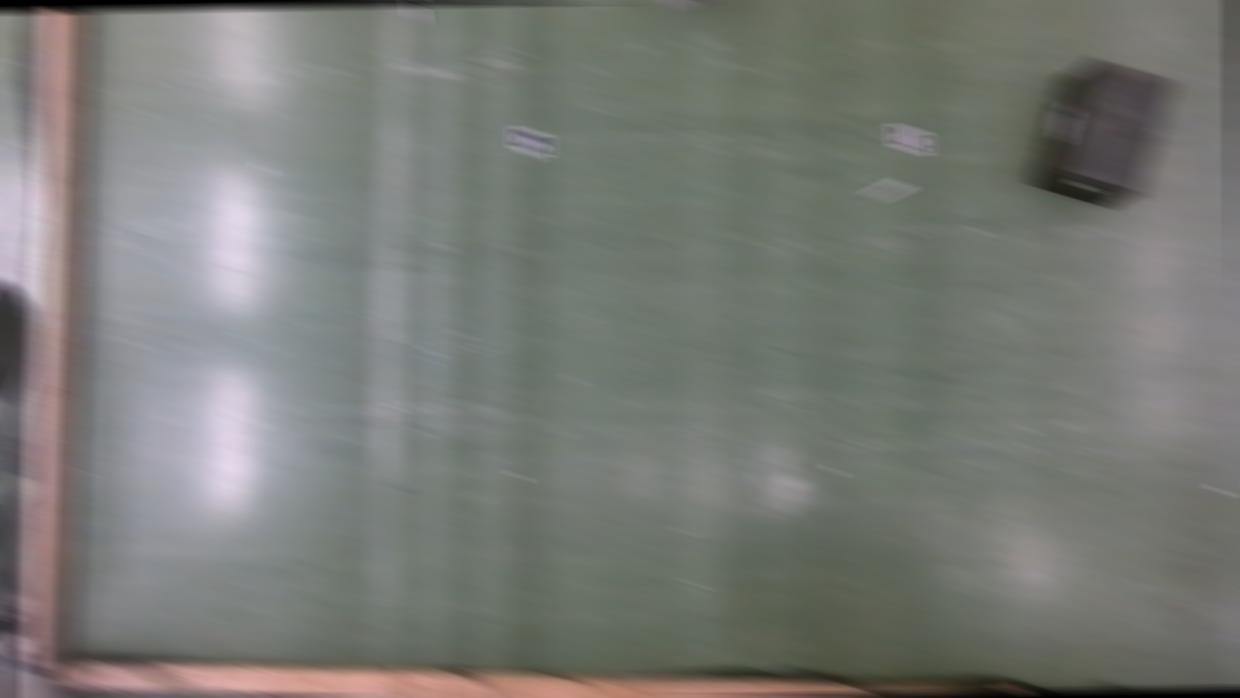probes: (865, 179, 907, 201), (400, 2, 426, 20)
rako: (1026, 58, 1176, 210)
